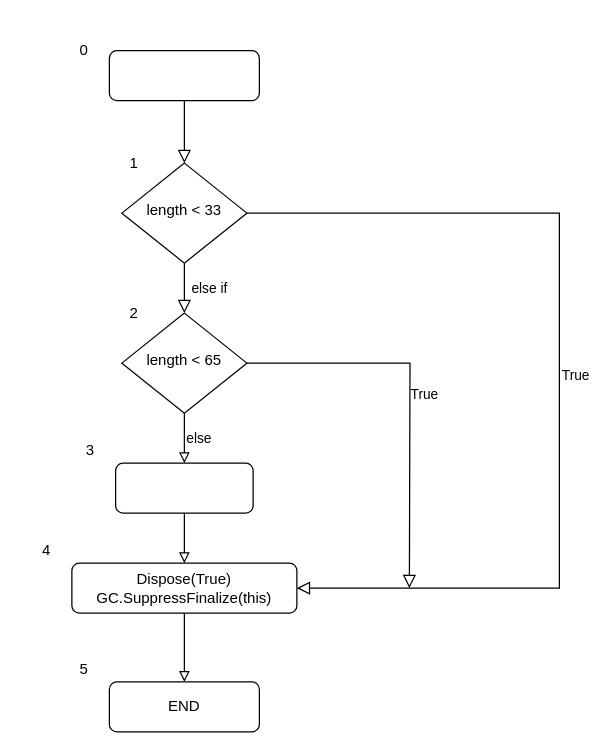
Image size: 610x754. Some labels were removed from this diagram. Here are the shapes that lost their labels. From the top down, the centre of each, then its label:
At (183,75): "constructor MultipleBinaryFlag".
At (183,487): "Dispose()".
